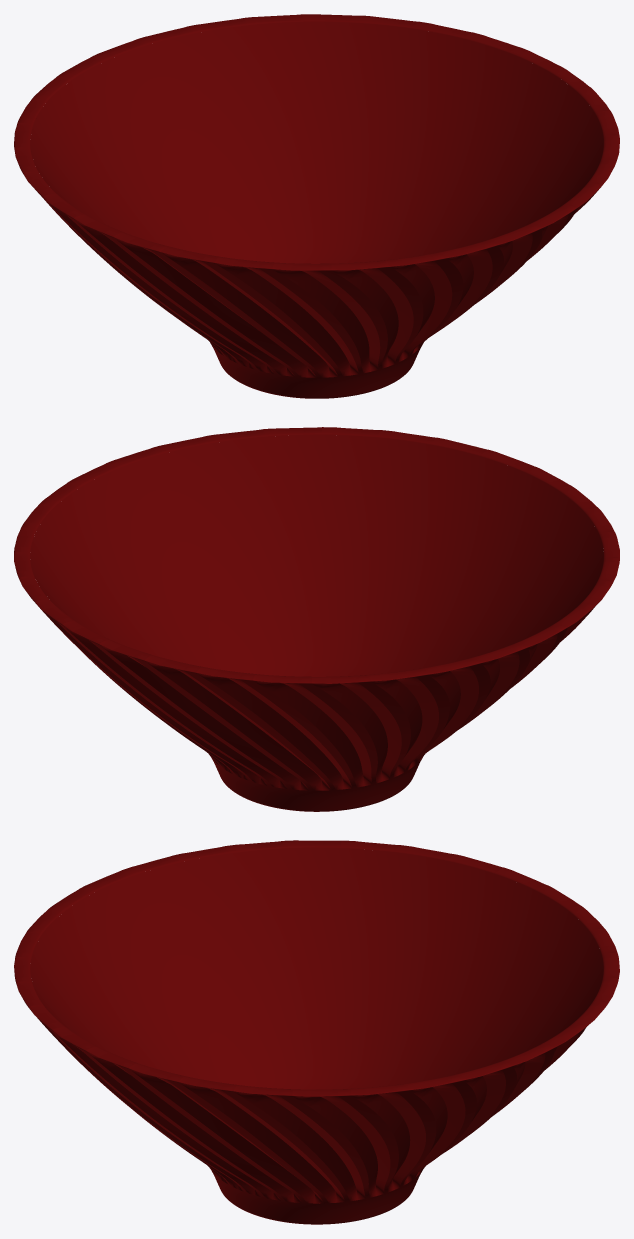
File: bigfloss.glb
3 views of the same model, one above another, from view 1: azimuth 30°, elevation 25°; view 2: azimuth 150°, elevation 25°; view 3: azimuth 270°, elevation 25° (orthographic).
Size of the model in its own units: 0.1402 by 0.0554 by 0.1402.
